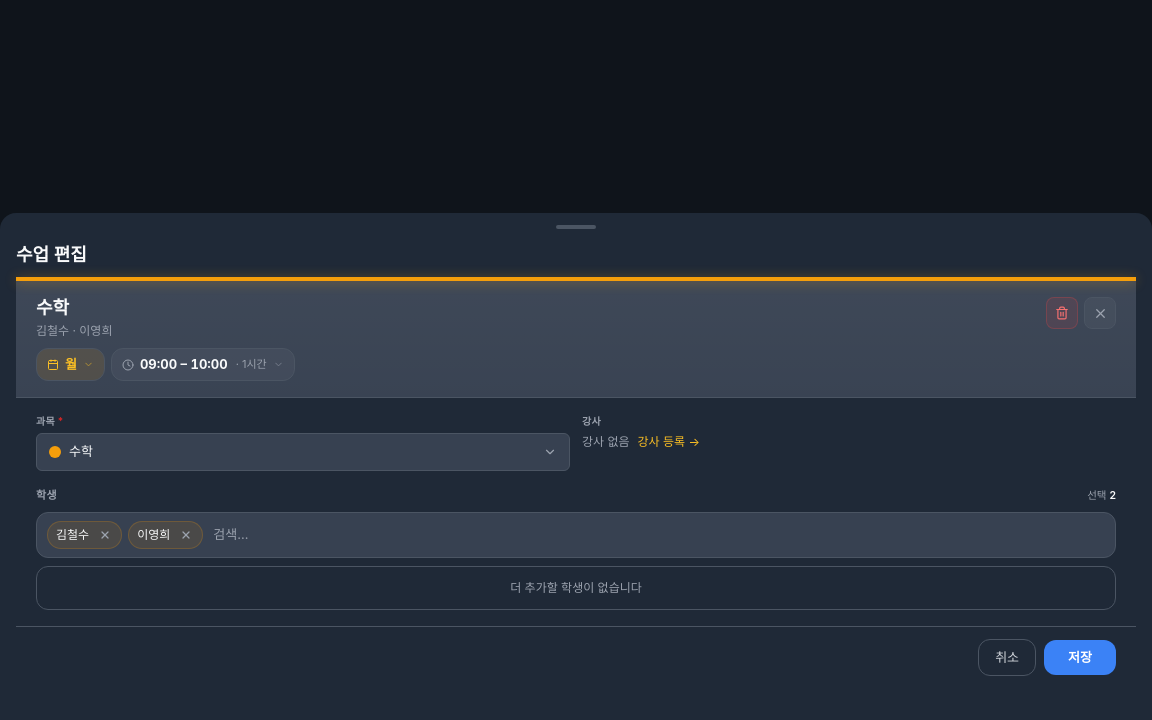
Test: EditSessionModal › 시간 chip 클릭 + timeError 있으면 popover 안에 에러 메시지를 표시한다
# 헤더 시간 chip 클릭으로 popover open
Click the button with aria-label "수업 시간:".
click(203, 365)  # box x1=111 y1=348 x2=295 y2=381
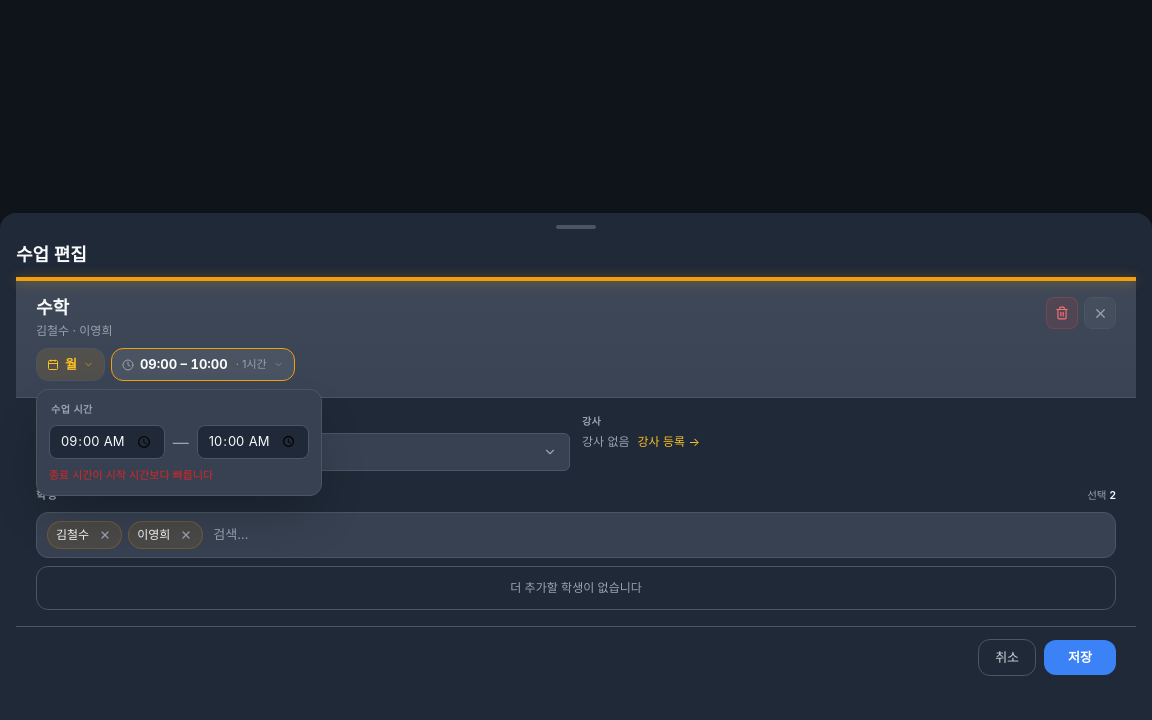
Now the message reads "종료 시간이 시작 시간보다 빠릅니다", box x1=49 y1=468 x2=213 y2=482
